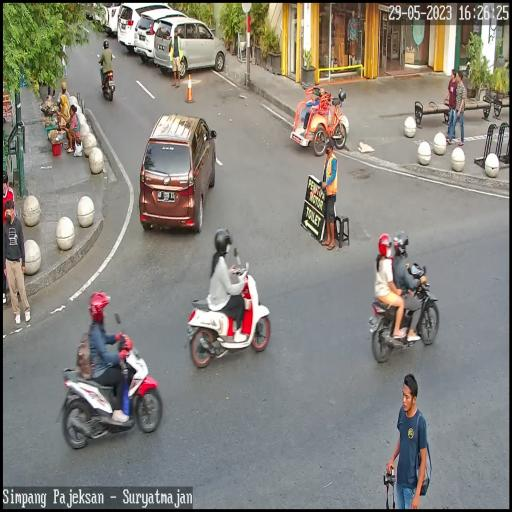mobil: (141, 114, 216, 241), (155, 18, 227, 74), (134, 8, 193, 67), (119, 0, 176, 56)
motor: (57, 314, 163, 444), (187, 254, 271, 380), (368, 260, 440, 364), (95, 52, 117, 106)
